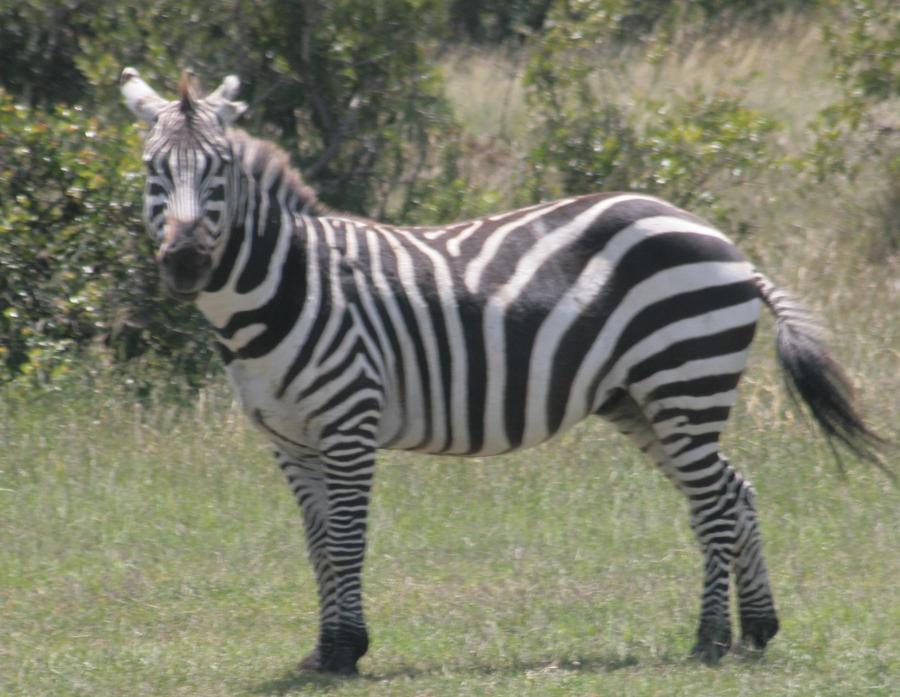zebra_plains: (236, 180, 783, 456)
